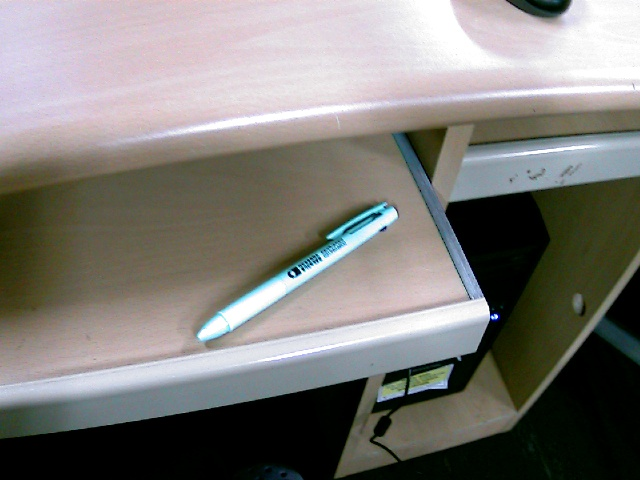pen: (178, 181, 410, 357)
